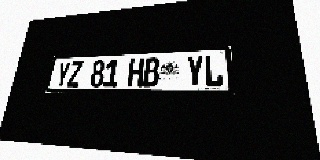1: (103, 59, 120, 87)
8: (89, 60, 106, 87)
B: (143, 57, 160, 87)
H: (127, 58, 144, 87)
L: (204, 54, 224, 87)
Y: (186, 55, 204, 87), (55, 61, 71, 87)
Z: (67, 61, 83, 87)
